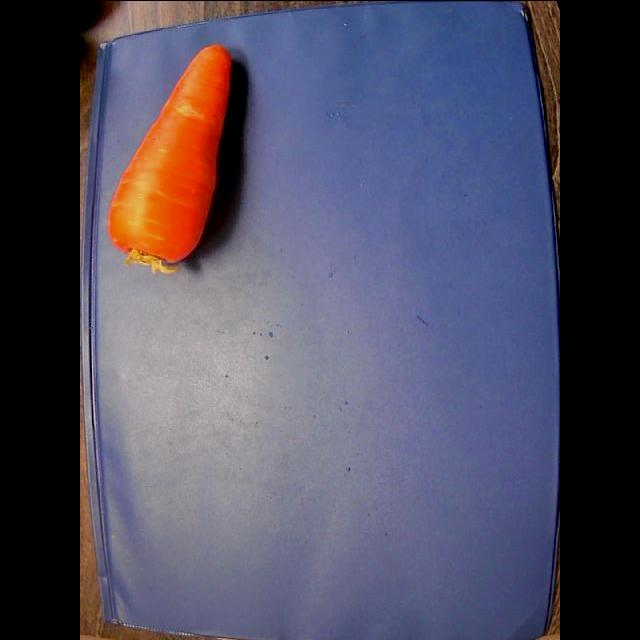zanahoria: (108, 44, 231, 272)
